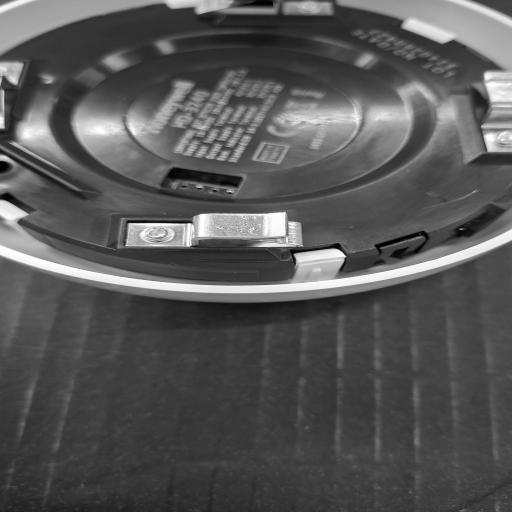yayli: (108, 206, 318, 256)
